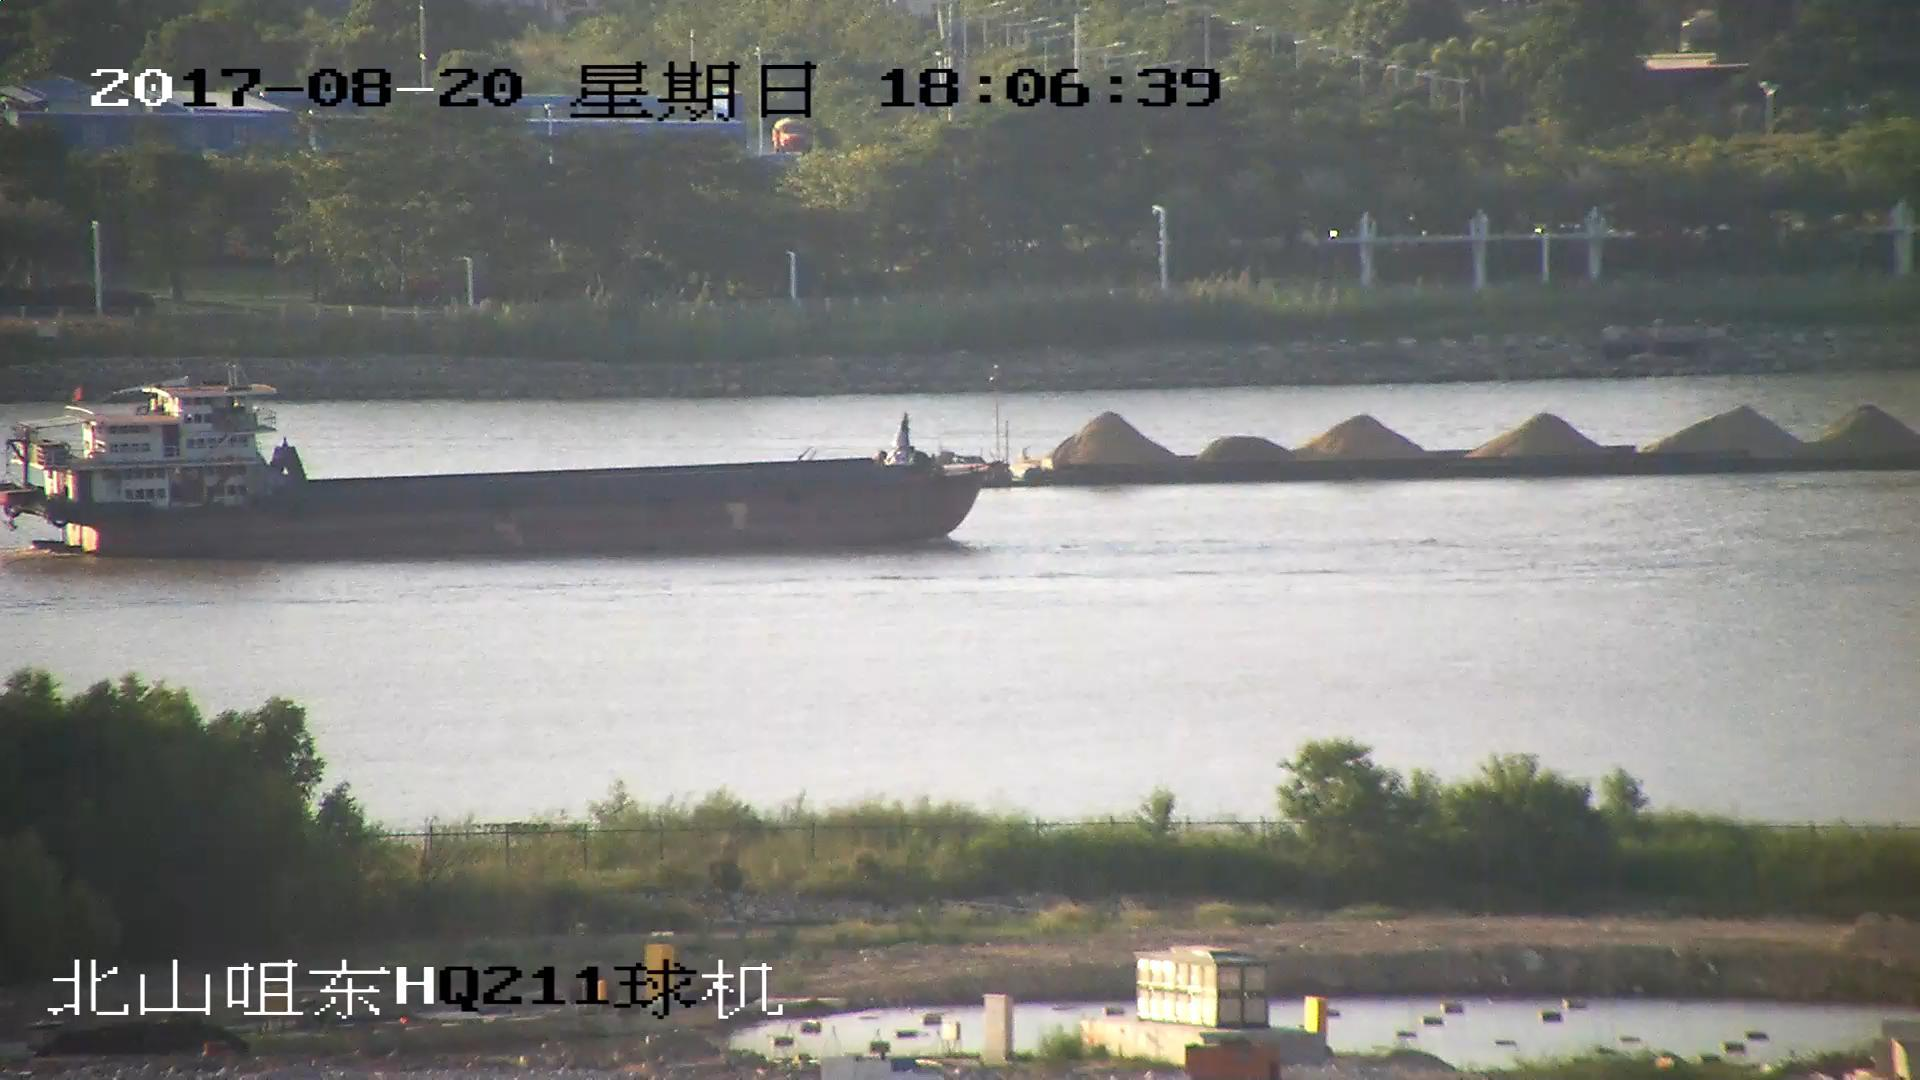Ship: (3, 384, 1002, 555), (803, 402, 1920, 487)
